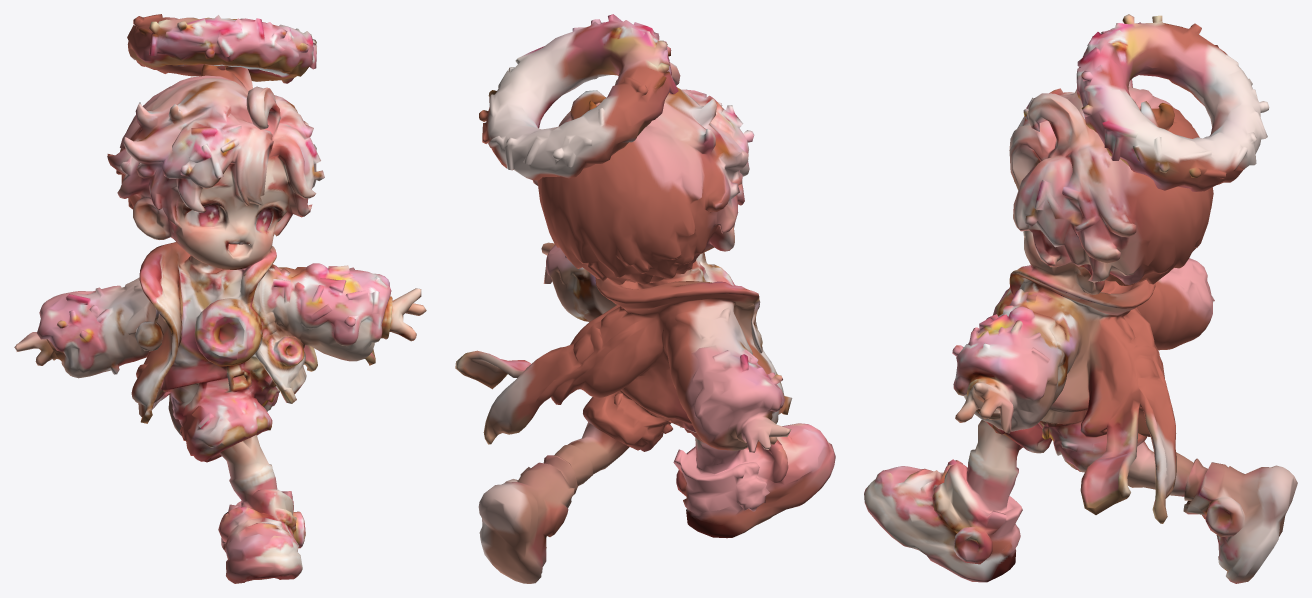
File: donut_painted.glb
3 renders of one model, left to right at view 1: azimuth 30°, elevation 25°; view 2: azimuth 150°, elevation 25°; view 3: azimuth 270°, elevation 25°, orthographic. The views are drawn at different scales.
Parts seen in each view (by area): view 1: Body; view 2: Body; view 3: Body.
Boxes of the visible parts, x1=… form: Body: x1=14, y1=14, x2=426, y2=583; Body: x1=455, y1=14, x2=835, y2=583; Body: x1=864, y1=14, x2=1297, y2=583.
Bounding box in the file's own units: 0.6902 × 0.9972 × 0.7112.
Materials: 1 (1 with a texture image).
